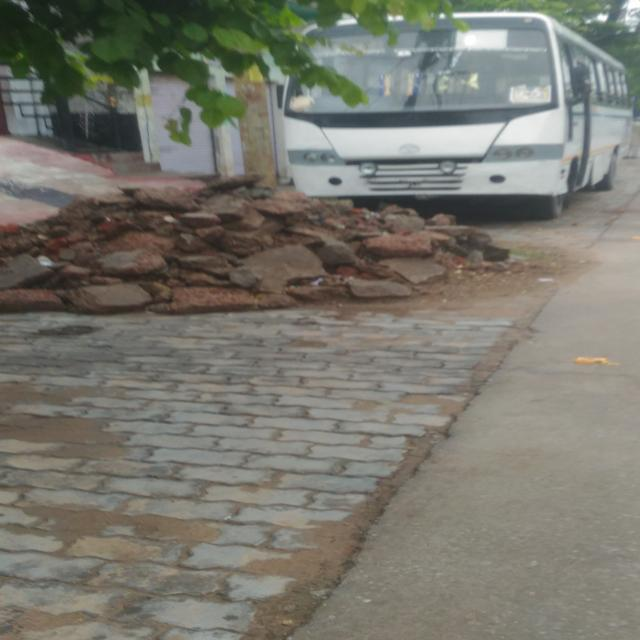Bus: (284, 12, 631, 219)
